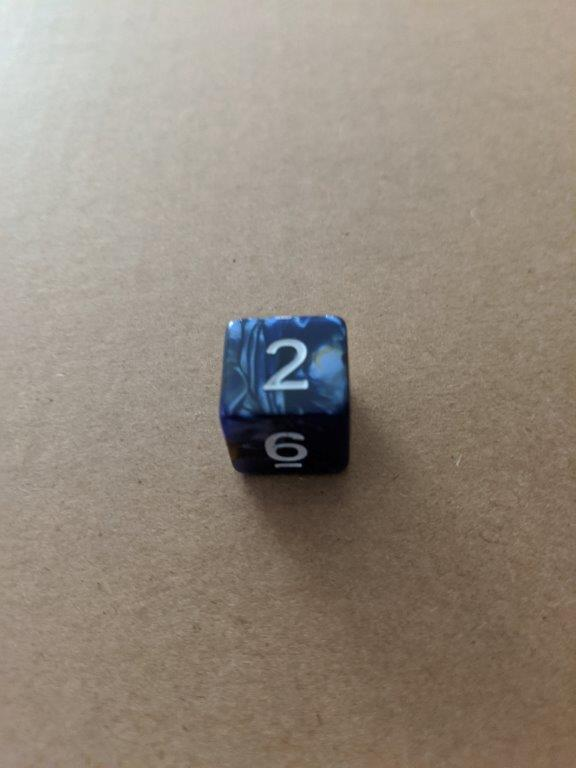d6-2: (218, 313, 355, 479)
